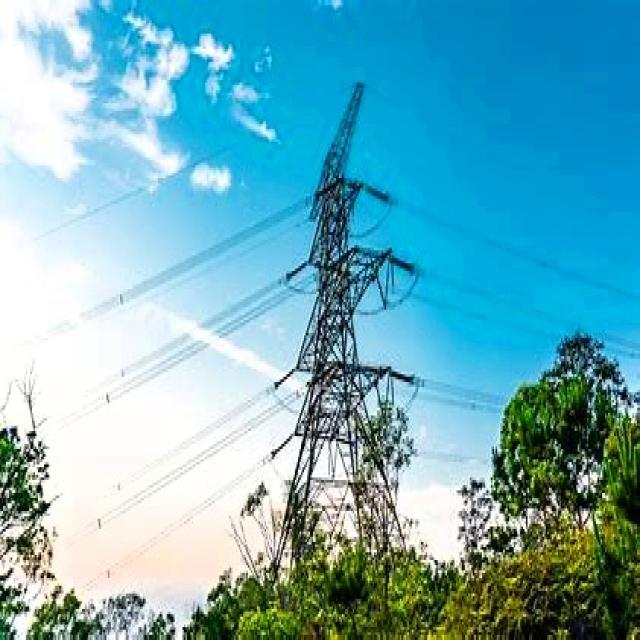utility poles: (266, 336, 427, 602), (460, 314, 622, 546)
